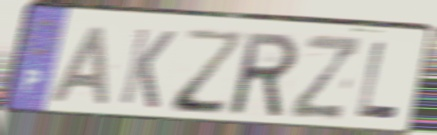A: (47, 24, 110, 108)
K: (116, 25, 178, 112)
L: (354, 39, 401, 123)
R: (229, 30, 300, 120)
Z: (170, 26, 248, 118), (286, 32, 365, 122)
